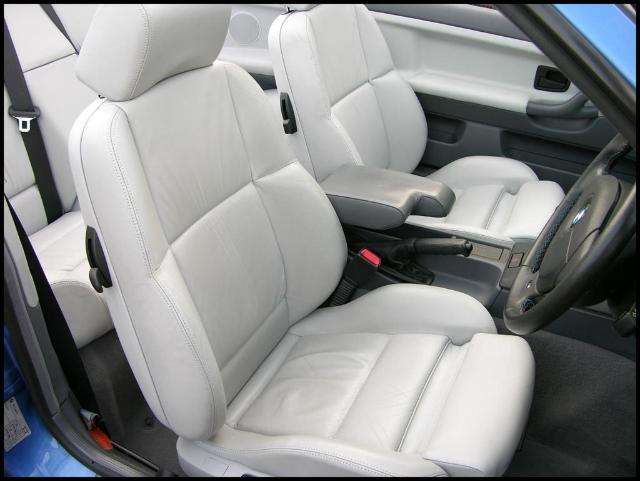Seatbelt: (3, 19, 63, 225)
